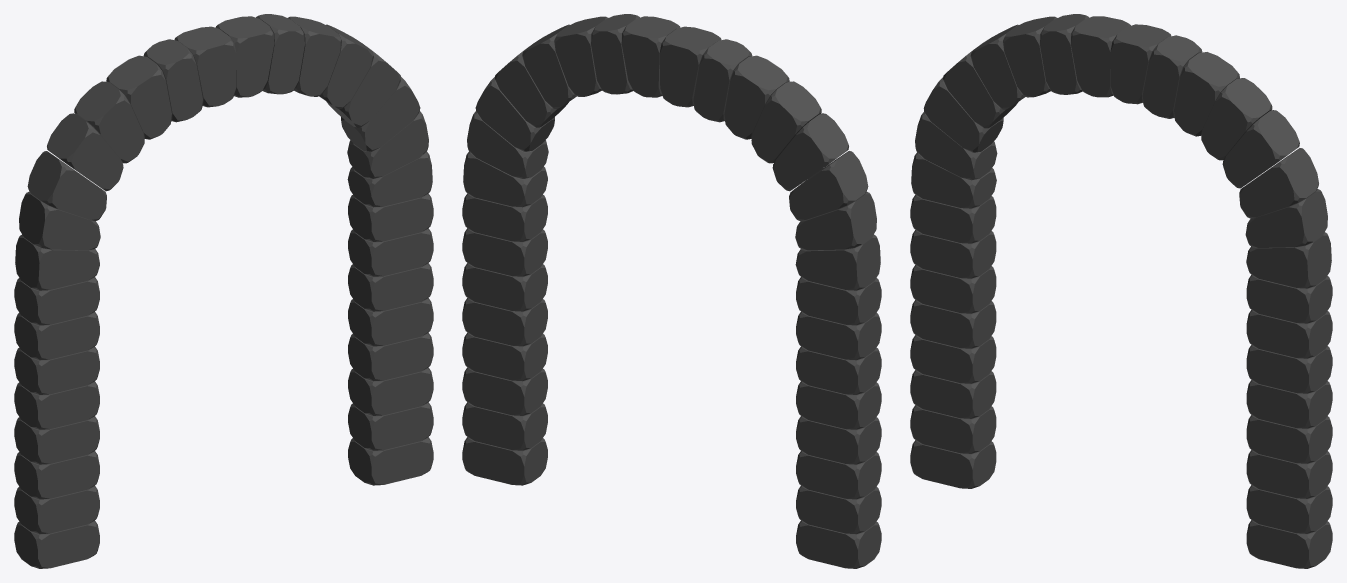
Rendered from Arcway.fbx.
3 views of the same model, side by side, from view 1: azimuth 30°, elevation 25°; view 2: azimuth 150°, elevation 25°; view 3: azimuth 330°, elevation 25° (orthographic).
Parts seen in each view (by area): view 1: Cube.001; view 2: Cube.001; view 3: Cube.001.
Boxes of the visible parts, x1=… form: Cube.001: x1=14, y1=14, x2=433, y2=568; Cube.001: x1=462, y1=14, x2=881, y2=568; Cube.001: x1=910, y1=14, x2=1332, y2=568.
Bounding box in the file's own units: 416 × 485 × 42.84.
Materials: 1 (1 with a texture image).
